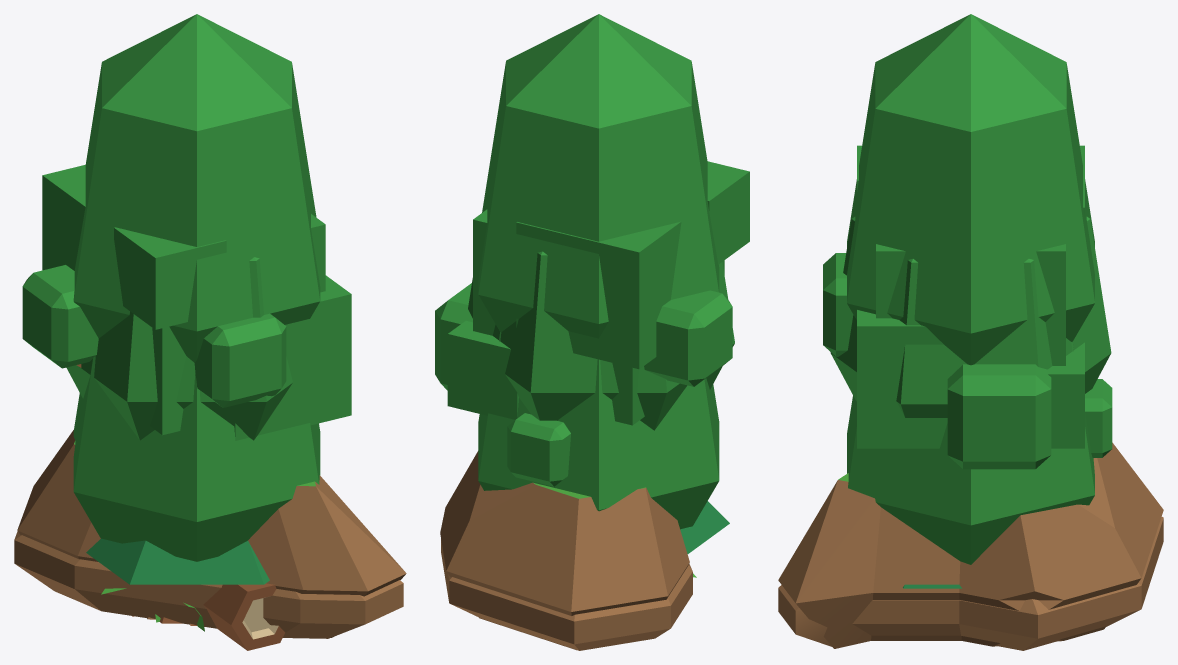
The model's file is nature.glb.
The picture shows the model from 3 angles, left to right: view 1: azimuth 30°, elevation 25°; view 2: azimuth 150°, elevation 25°; view 3: azimuth 270°, elevation 25°; orthographic projection. The views are drawn at different scales.
Parts seen in each view (by area): view 1: tree_default, tree_fat, tree_blocks, rock_largeB, rock_largeA, tree_detailed, tree_oak, tree_pineRoundA, log; view 2: tree_default, rock_largeB, tree_blocks, tree_fat, tree_detailed, tree_oak, rock_largeA, tree_pineRoundA; view 3: tree_default, rock_largeB, tree_fat, tree_blocks, tree_detailed, rock_largeA, tree_oak.
Part boxes in pixels (box(x1,y1,x2,y2)): tree_default: box(73, 14, 320, 362); tree_fat: box(73, 356, 320, 561); tree_blocks: box(42, 165, 351, 440); rock_largeB: box(17, 430, 406, 637); rock_largeA: box(14, 531, 403, 638); tree_detailed: box(22, 265, 286, 407); tree_oak: box(66, 257, 292, 625); tree_pineRoundA: box(86, 538, 269, 584); log: box(203, 583, 285, 650); tree_default: box(478, 14, 719, 338); rock_largeB: box(440, 451, 689, 650); tree_blocks: box(447, 161, 749, 425); tree_fat: box(478, 332, 719, 529); tree_detailed: box(435, 283, 732, 486); tree_oak: box(468, 251, 734, 430); rock_largeA: box(441, 539, 692, 650); tree_pineRoundA: box(680, 501, 729, 553); tree_default: box(847, 14, 1094, 365); rock_largeB: box(778, 442, 1163, 648); tree_fat: box(847, 342, 1094, 564); tree_blocks: box(857, 145, 1084, 448); tree_detailed: box(823, 253, 1112, 469); rock_largeA: box(778, 517, 1163, 650); tree_oak: box(830, 216, 1111, 417).
Size of the model in its own units: 0.8471 by 1.71 by 1.02.
